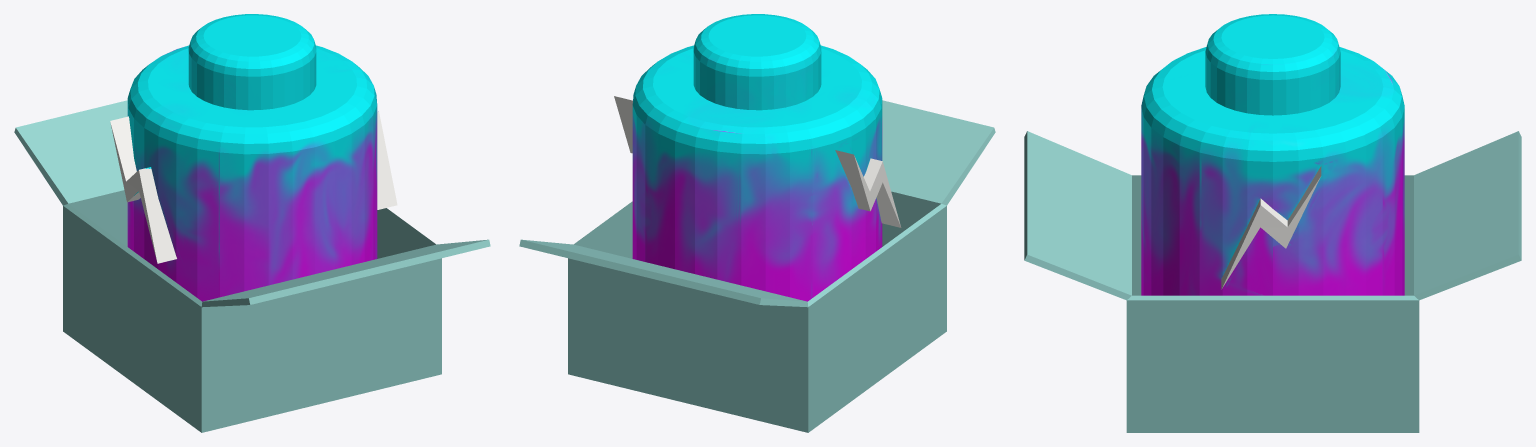
The model's file is battery_powerup.gltf.
The picture shows the model from 3 angles, left to right: view 1: azimuth 30°, elevation 25°; view 2: azimuth 150°, elevation 25°; view 3: azimuth 270°, elevation 25°; orthographic projection. The views are drawn at different scales.
Visible parts, largest first — view 1: Battery, Box; view 2: Box, Battery; view 3: Box, Battery.
Part boxes in pixels (left/top/right/bottom): Battery: left=110, top=14, right=397, bottom=301; Box: left=14, top=100, right=490, bottom=432; Box: left=519, top=100, right=995, bottom=432; Battery: left=614, top=14, right=901, bottom=301; Box: left=1024, top=131, right=1521, bottom=432; Battery: left=1141, top=14, right=1404, bottom=295.
Bounding box in the file's own units: 2.01 × 2.52 × 3.4.
2 materials, 2 textured.
